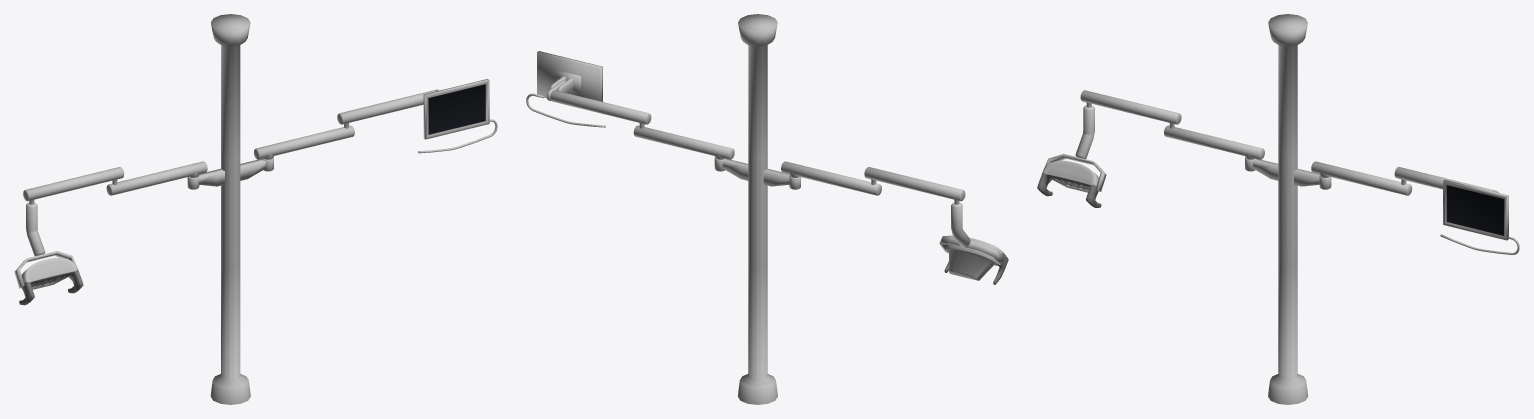
Rendered from dentalStand.fbx.
3 views of the same model, side by side, from view 1: azimuth 30°, elevation 25°; view 2: azimuth 150°, elevation 25°; view 3: azimuth 330°, elevation 25° (orthographic).
Visible parts, largest first — view 1: dentalStand_3, dentalStand, dentalStand_2, dentalStand_4, dentalStand_5, dentalStand_8, dentalStand_6, dentalStand_7; view 2: dentalStand_3, dentalStand, dentalStand_2, dentalStand_4, dentalStand_6, dentalStand_5, dentalStand_8, dentalStand_7; view 3: dentalStand_3, dentalStand, dentalStand_2, dentalStand_4, dentalStand_5, dentalStand_8, dentalStand_7, dentalStand_6.
Part boxes in pixels (<box>): dentalStand_3: <box>187,14,273,404</box>; dentalStand: <box>418,79,497,153</box>; dentalStand_2: <box>19,257,83,305</box>; dentalStand_4: <box>23,167,124,204</box>; dentalStand_5: <box>254,125,354,159</box>; dentalStand_8: <box>106,161,207,195</box>; dentalStand_6: <box>337,90,435,128</box>; dentalStand_7: <box>14,202,79,288</box>; dentalStand_3: <box>714,14,800,404</box>; dentalStand: <box>526,51,605,127</box>; dentalStand_2: <box>944,237,1008,284</box>; dentalStand_4: <box>864,167,965,204</box>; dentalStand_6: <box>550,90,651,128</box>; dentalStand_5: <box>633,125,734,159</box>; dentalStand_8: <box>781,161,881,195</box>; dentalStand_7: <box>939,202,1004,264</box>; dentalStand_3: <box>1245,14,1331,404</box>; dentalStand: <box>1440,180,1519,254</box>; dentalStand_2: <box>1037,160,1101,207</box>; dentalStand_4: <box>1080,90,1181,128</box>; dentalStand_5: <box>1311,161,1412,195</box>; dentalStand_8: <box>1164,125,1264,159</box>; dentalStand_7: <box>1041,105,1106,191</box>; dentalStand_6: <box>1394,167,1493,191</box>.
Bounding box in the file's own units: 331 × 248 × 43.81.
Materials: 1 (1 with a texture image).
